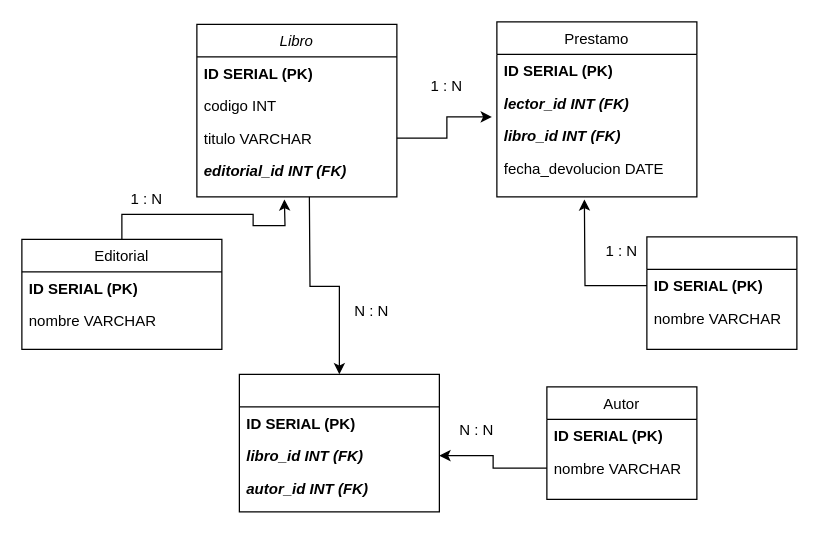
Image size: 819x534. Some labels were removed from this diagram. Each missing label, with the box of its shape:
Lector: (646, 236, 797, 349)
Libro_autor: (238, 373, 439, 512)
